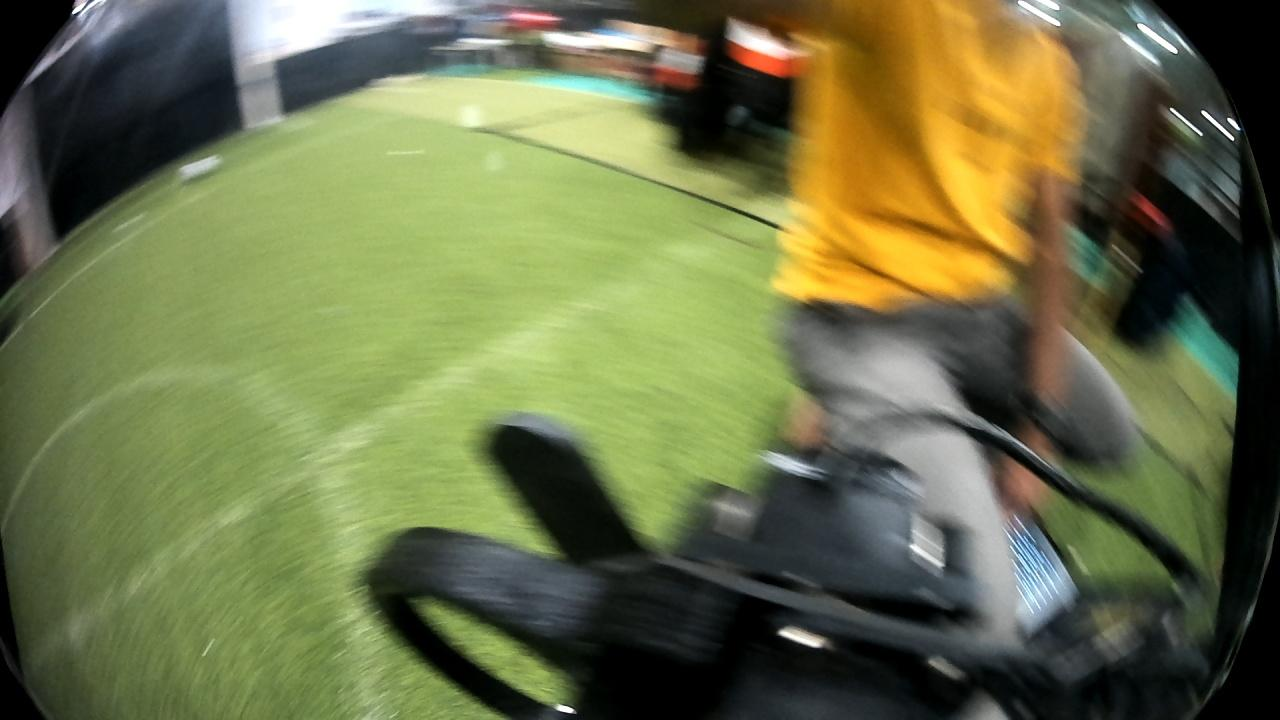ball: (172, 147, 228, 189)
